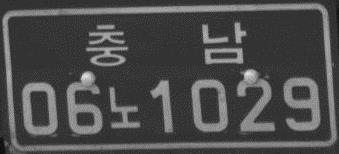0: (18, 79, 60, 138), (190, 77, 230, 134)
1: (149, 78, 176, 136)
2: (235, 75, 276, 135)
6: (64, 80, 104, 136)
9: (281, 76, 323, 132)
노: (107, 84, 142, 130)
충남_D: (85, 20, 248, 69)
